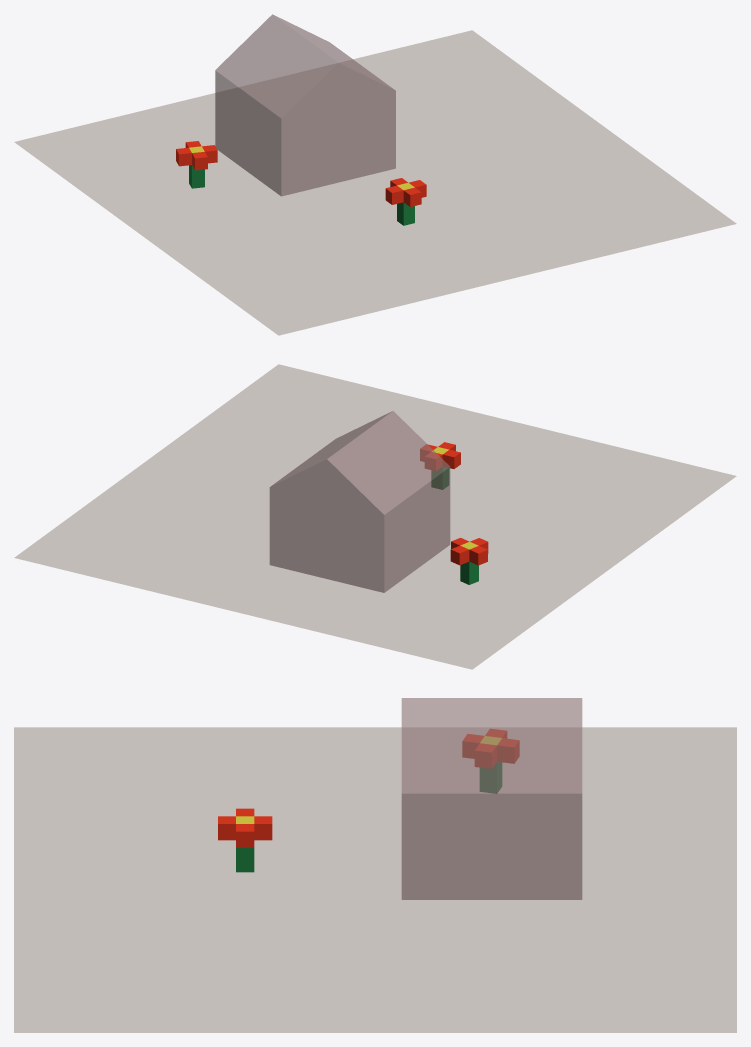
3 renders of one model, top to bottom at view 1: azimuth 30°, elevation 25°; view 2: azimuth 150°, elevation 25°; view 3: azimuth 270°, elevation 25°, orthographic. The views are drawn at different scales.
Visible parts, largest first — view 1: Plane, Building_Prefab_02, Flower, Flower (2); view 2: Plane, Building_Prefab_02, Flower (2), Flower; view 3: Plane, Building_Prefab_02, Flower (2), Flower.
Part boxes in pixels (left/top/right/bottom): Plane: left=14, top=30, right=736, bottom=335; Building_Prefab_02: left=215, top=14, right=395, bottom=196; Flower: left=385, top=178, right=426, bottom=225; Flower (2): left=176, top=141, right=217, bottom=188; Plane: left=14, top=364, right=736, bottom=669; Building_Prefab_02: left=269, top=411, right=450, bottom=592; Flower (2): left=450, top=537, right=488, bottom=584; Flower: left=420, top=442, right=460, bottom=489; Plane: left=14, top=727, right=736, bottom=1032; Building_Prefab_02: left=401, top=698, right=582, bottom=899; Flower (2): left=462, top=729, right=519, bottom=793; Flower: left=218, top=808, right=272, bottom=872.
Bounding box in the file's own units: 0.4 × 0.1004 × 0.4.
Materials: 3 (1 with a texture image).
